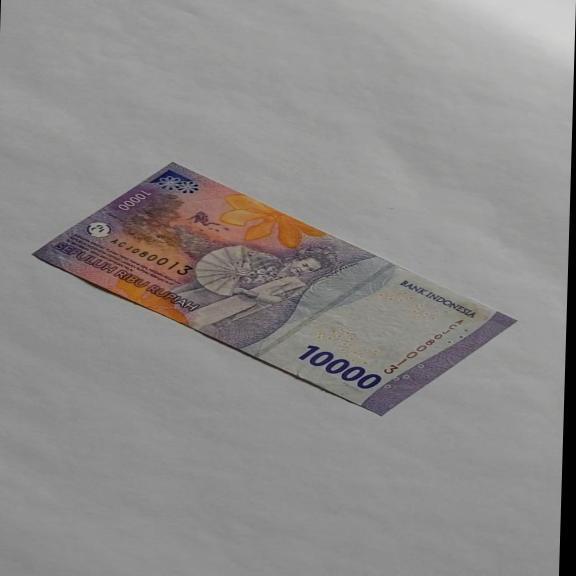Kertas: (27, 161, 523, 416), (295, 344, 383, 390)
